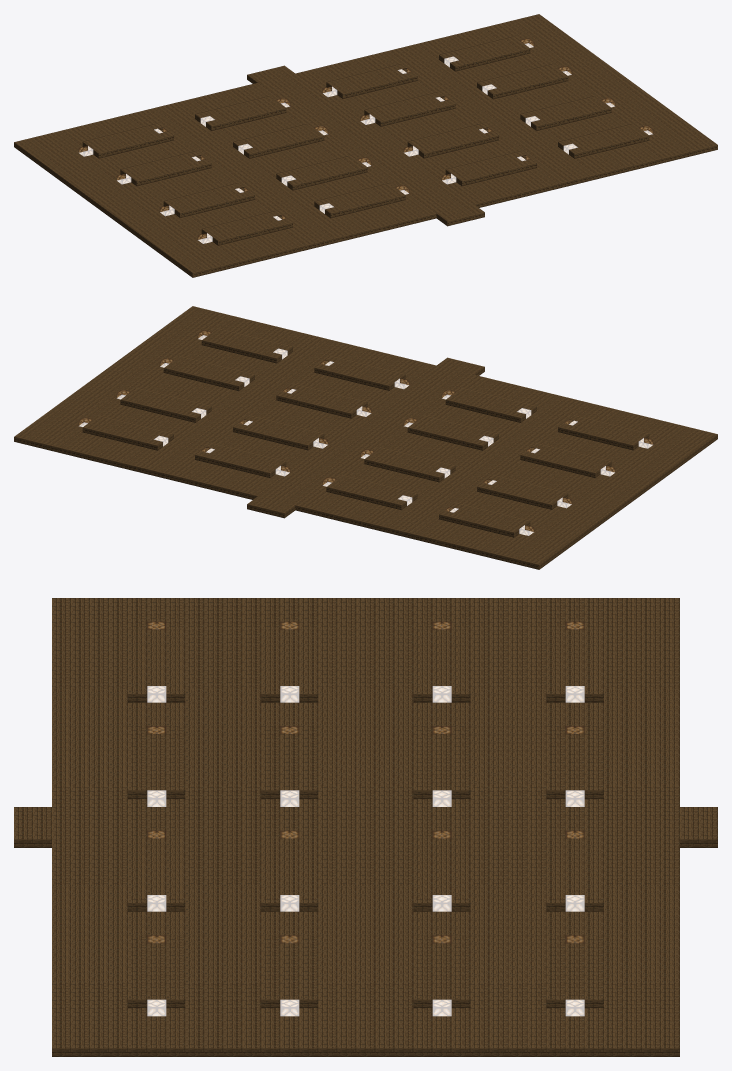
Rendered from storage.gltf.
The picture shows the model from 3 angles, top to bottom: view 1: azimuth 30°, elevation 25°; view 2: azimuth 150°, elevation 25°; view 3: azimuth 270°, elevation 25°; orthographic projection. The views are drawn at different scales.
Visible parts, largest first — view 1: 床; view 2: 床; view 3: 床.
Part boxes in pixels (box(x1,y1,x2,y2)): 床: box(14, 14, 717, 277); 床: box(14, 306, 717, 569); 床: box(14, 598, 717, 1056).
Bounding box in the file's own units: 56 × 1 × 37.
Materials: 8 (8 with a texture image).
